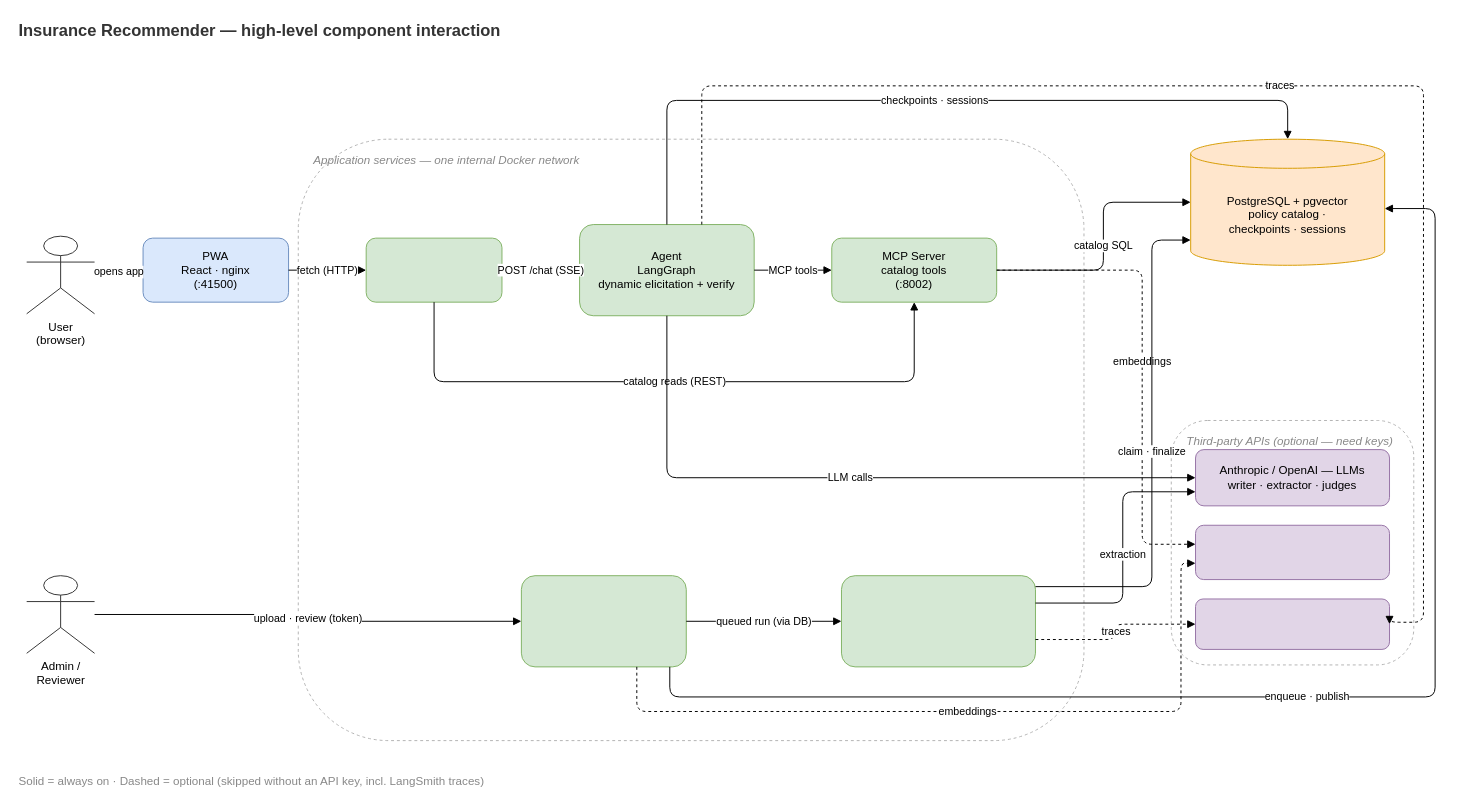
The diagram is 1460 pixels wide and 809 high, and some of its shapes have lost their labels. The shapes that lost their labels are listed below. From the top down, each one's centre as x and y in pixels, then its label:
pixel 433 269: API FastAPI (:41501)
pixel 1292 552: Voyage embeddings
pixel 603 621: Ingestion (web) upload → enqueue · human review · publish (:41502)
pixel 938 621: Ingestion worker claim queue · parse (docling) · LLM extract · finalize
pixel 1292 623: LangSmith tracing
